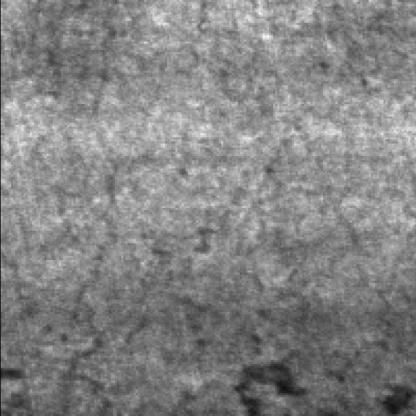crazing: (62, 152, 225, 414)
